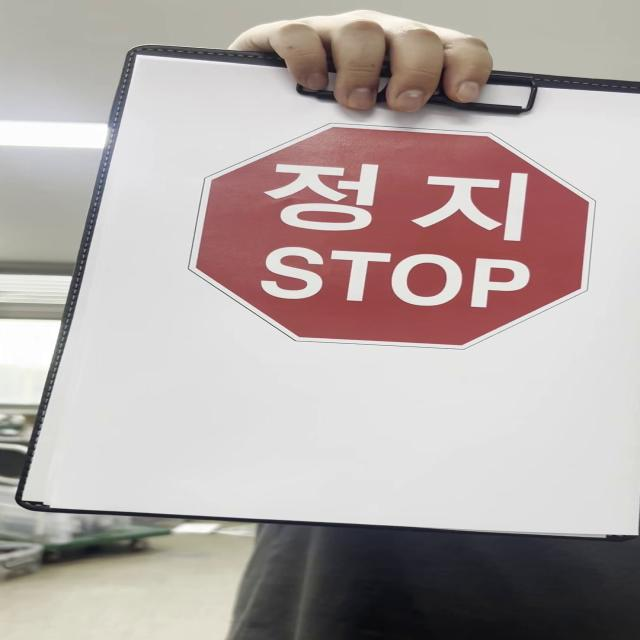stop: (191, 123, 590, 352)
